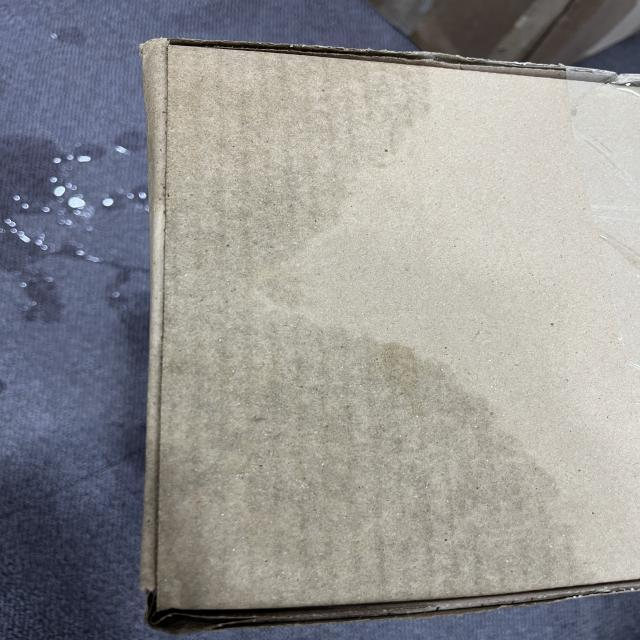wet: (148, 302, 593, 584), (129, 49, 433, 273)
